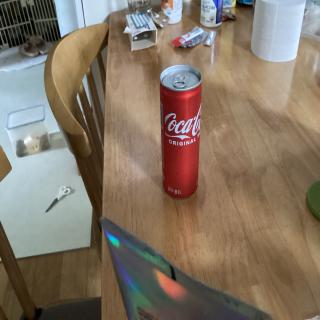cocacola: (157, 63, 204, 200)
